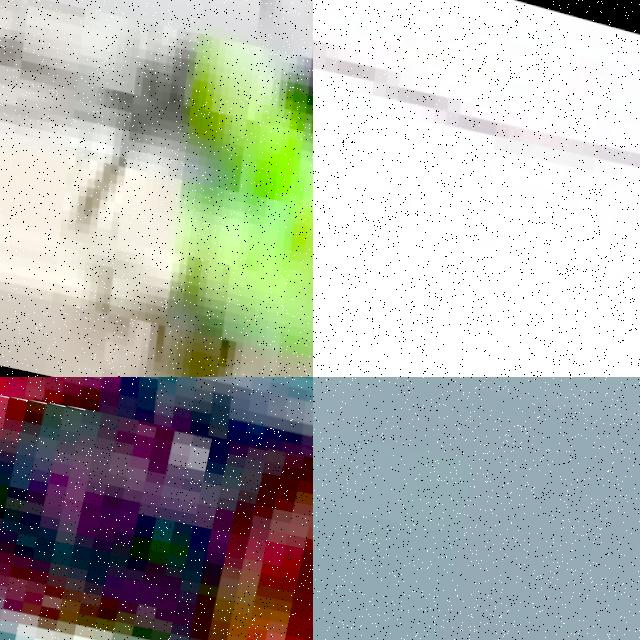drone: (313, 0, 640, 377), (0, 0, 313, 377), (0, 377, 313, 502)
